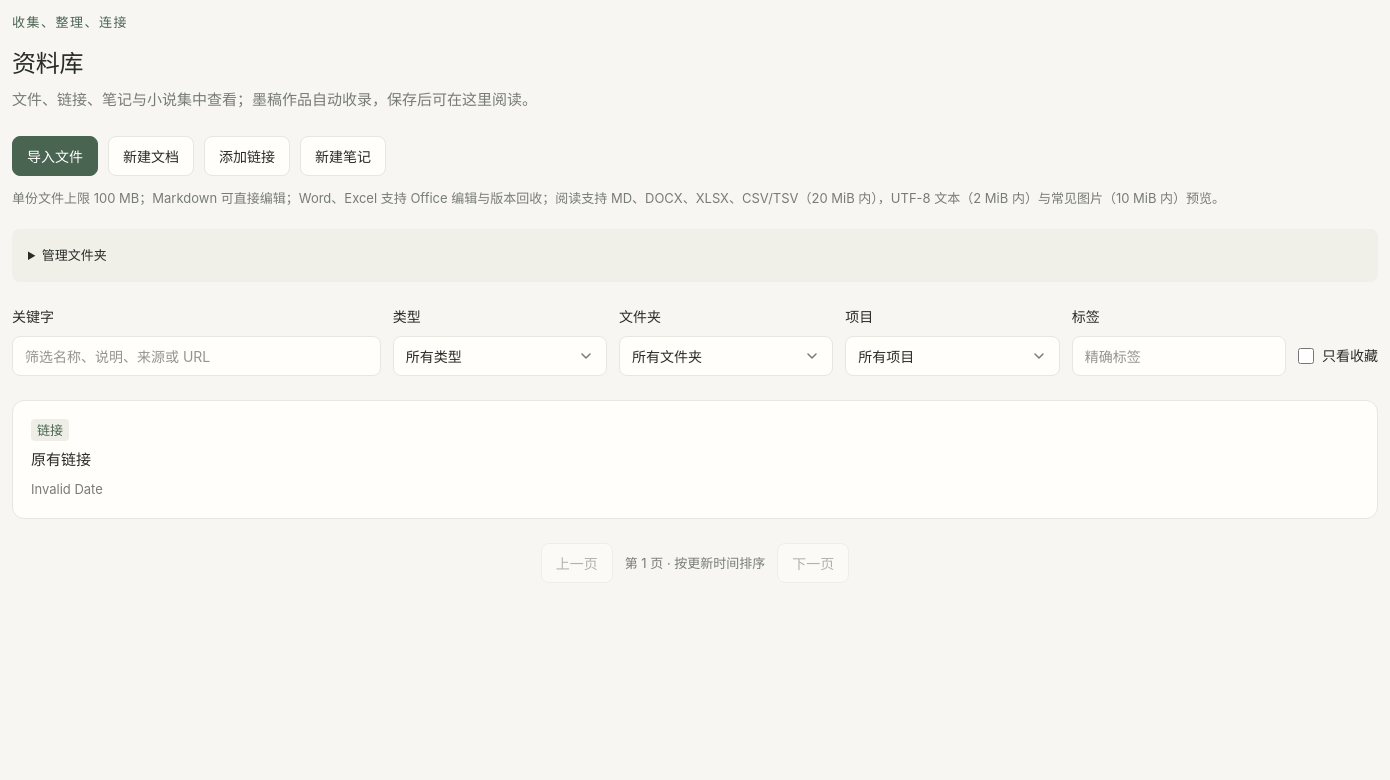
Scenario: 原生拖入完成立即刷新当前目录，保留筛选和未提交的资料详情字段，卸载解除订阅
Click the button "链接 原有链接 Invalid Date": (687, 460) [13,401,1361,518]
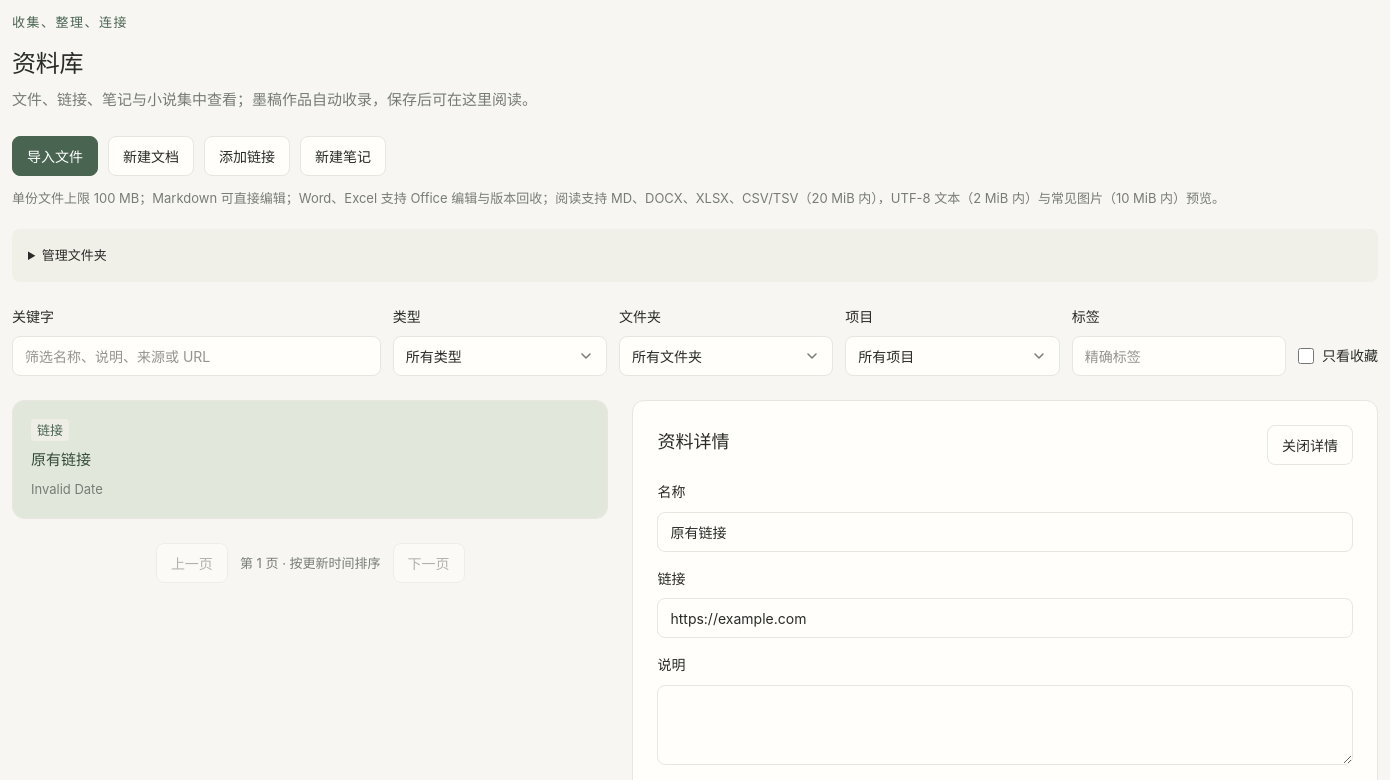
Replace the text in the field labelled "名称" with "尚未提交的新名称": (1005, 532) [657,512,1353,552]
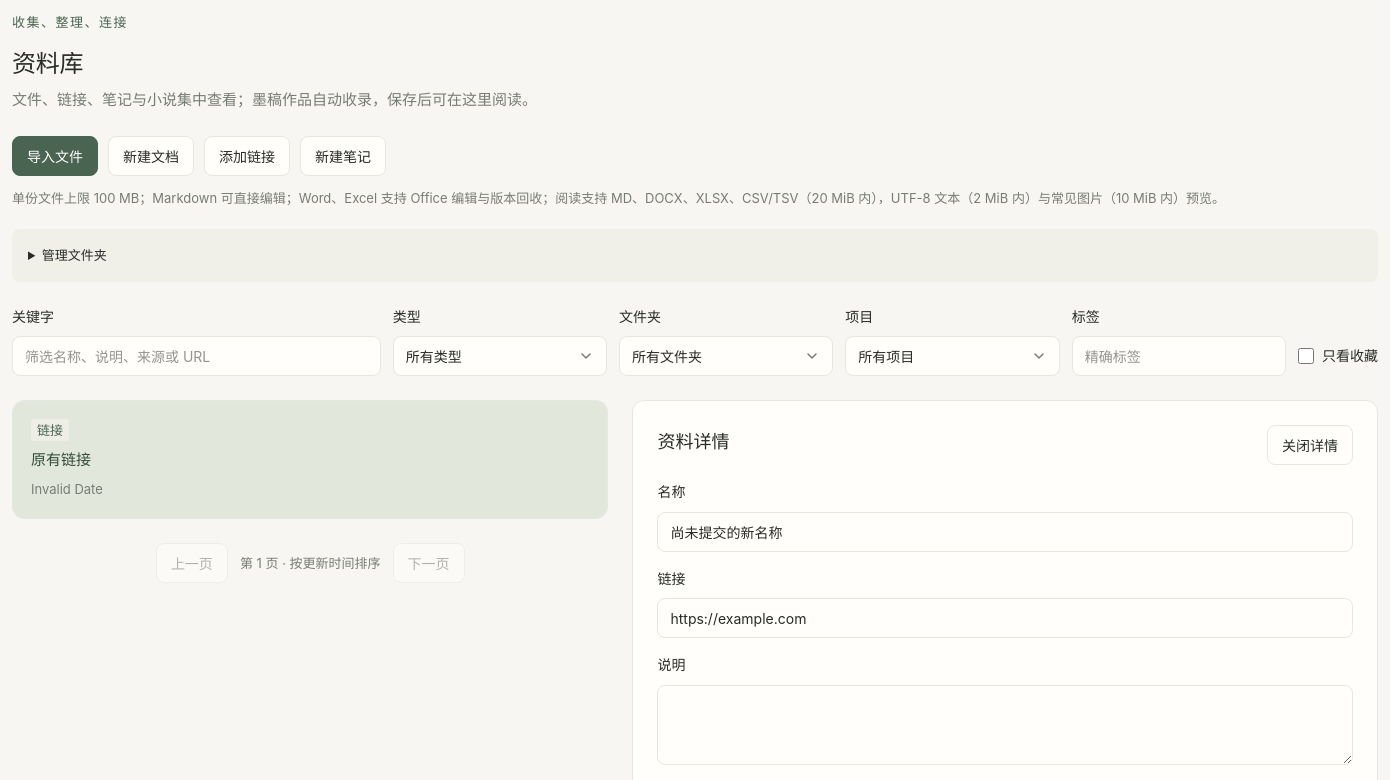
Click the checkbox labelled "只看收藏": (1306, 356) [1298,348,1314,364]
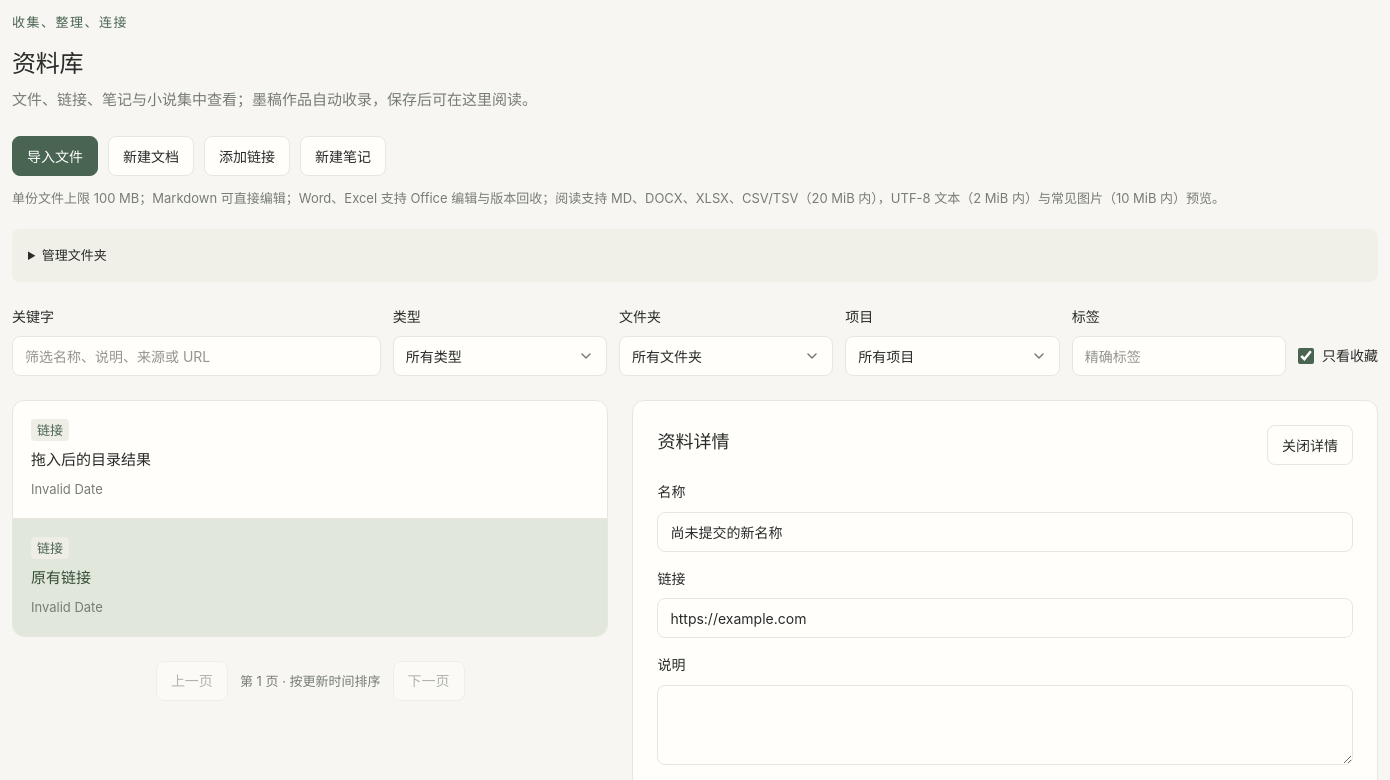
Expected: the button "链接 原有链接 Invalid Date" is shown, [13,519,591,636]
Now the checkbox labelled "只看收藏" is checked, box [1298,348,1314,364]
Now the button "链接 拖入后的目录结果 Invalid Date" is shown, box [13,401,591,518]
